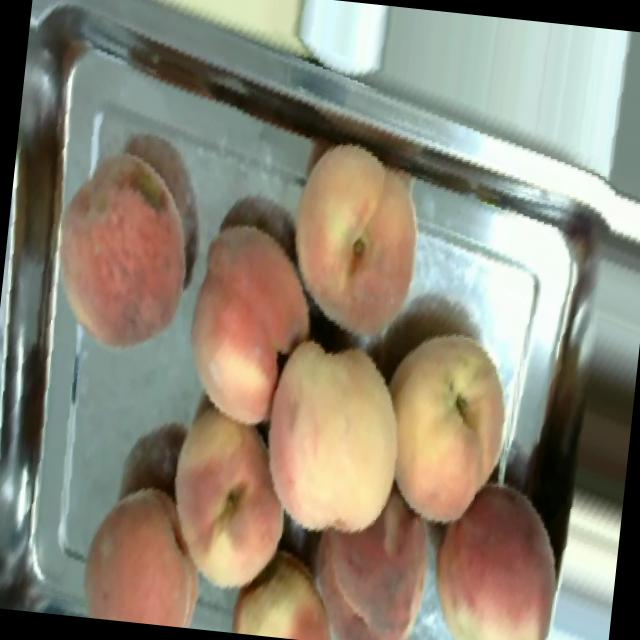Fruit: (254, 114, 458, 366), (28, 122, 220, 370), (168, 199, 334, 439), (384, 306, 538, 550), (256, 320, 411, 559), (152, 398, 310, 606), (284, 464, 447, 640), (416, 466, 569, 640), (70, 473, 222, 630), (222, 535, 377, 640)
